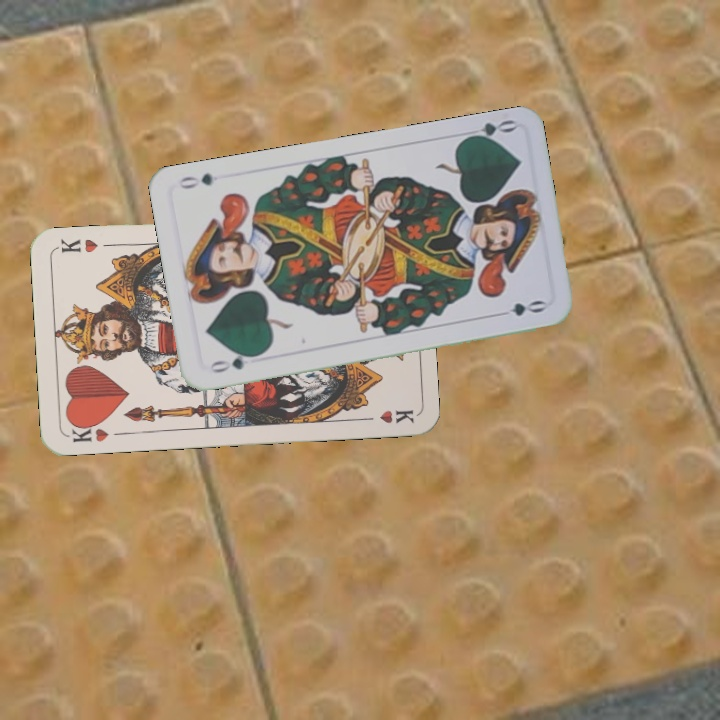GO: (459, 115, 518, 145), (205, 349, 262, 376)
HK: (66, 418, 124, 445)
